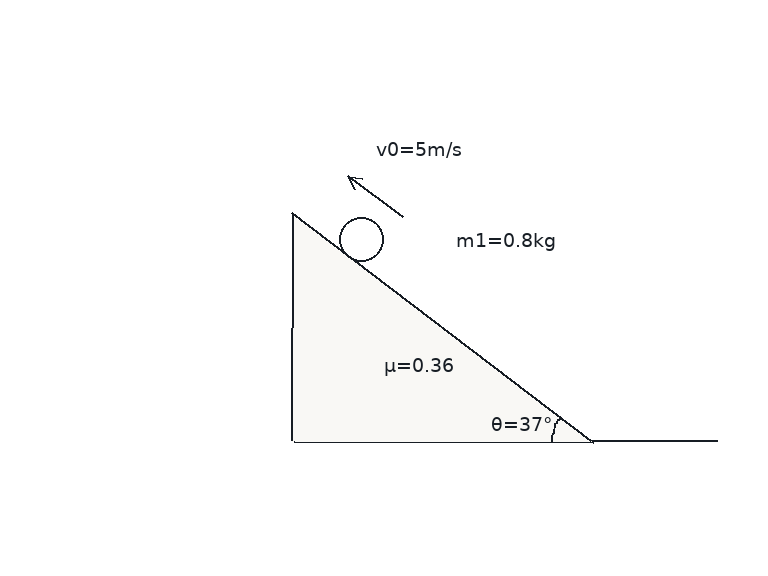ball: (337, 215, 385, 263)
ramp: (291, 213, 594, 443)
